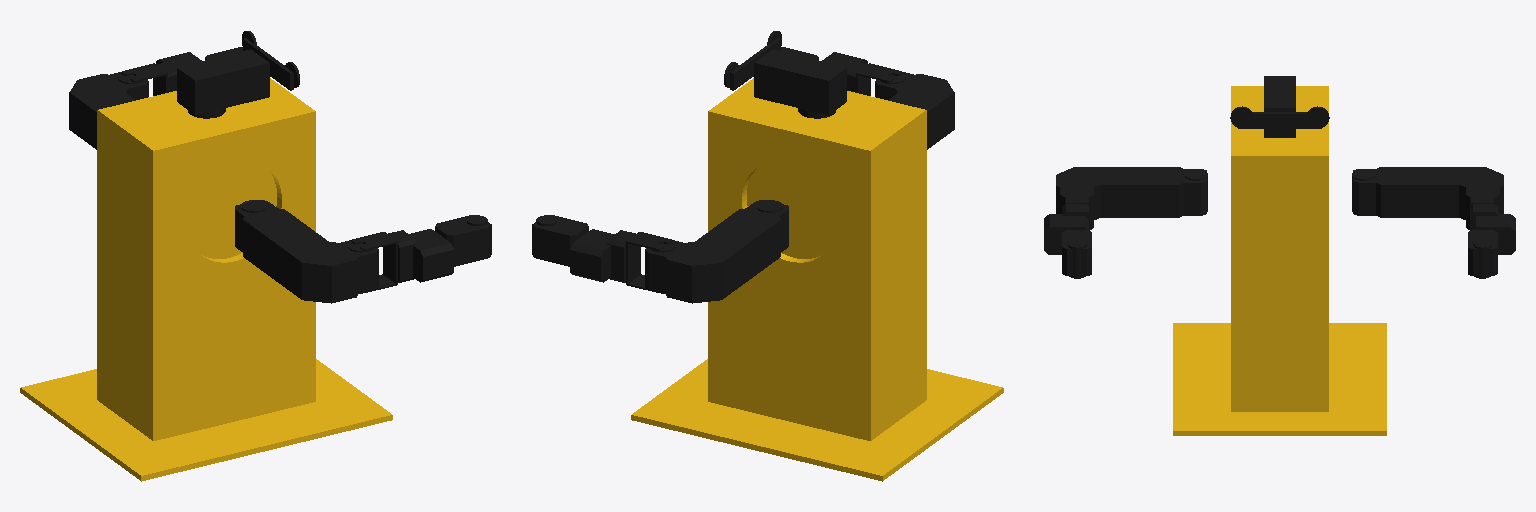
--- Render facts (derived) ---
3 views of the same robot in one strip: view 1: azimuth 30°, elevation 25°; view 2: azimuth 150°, elevation 25°; view 3: azimuth 270°, elevation 25° (orthographic).
Model boxbot with 27 links and 26 joints (14 revolute, 4 prismatic, 8 fixed), rooted at world, posed joints at zero except 4 at the middle of their limits (left_gripper_joint = 0.0165, left_gripper_prismatic_joint_2 = 0.0165, right_gripper_joint = 0.0165, right_gripper_prismatic_joint_2 = 0.0165).
Links seen in each view (by area): view 1: torso, right_biceps_link, pan_link, right_forearm_1_link, left_biceps_link, right_forearm_2_link, left_forearm_1_link, tilt_link; view 2: torso, left_biceps_link, pan_link, left_forearm_1_link, right_biceps_link, left_forearm_2_link, right_forearm_1_link, tilt_link; view 3: torso, left_biceps_link, right_biceps_link, left_forearm_1_link, right_forearm_1_link, pan_link, left_forearm_2_link, right_forearm_2_link, tilt_link.
Link boxes in pixels (bbox=[...]): torso: bbox=[20, 78, 392, 481]; right_biceps_link: bbox=[235, 200, 378, 303]; pan_link: bbox=[177, 49, 269, 114]; right_forearm_1_link: bbox=[351, 229, 453, 292]; left_biceps_link: bbox=[69, 72, 148, 149]; right_forearm_2_link: bbox=[435, 215, 491, 266]; left_forearm_1_link: bbox=[121, 52, 201, 95]; tilt_link: bbox=[243, 38, 293, 90]; torso: bbox=[631, 78, 1003, 481]; left_biceps_link: bbox=[645, 200, 788, 303]; pan_link: bbox=[754, 49, 846, 114]; left_forearm_1_link: bbox=[570, 229, 672, 292]; right_biceps_link: bbox=[875, 72, 954, 149]; left_forearm_2_link: bbox=[532, 215, 588, 266]; right_forearm_1_link: bbox=[822, 52, 902, 95]; tilt_link: bbox=[730, 38, 780, 90]; torso: bbox=[1173, 86, 1386, 435]; left_biceps_link: bbox=[1352, 167, 1503, 230]; right_biceps_link: bbox=[1056, 167, 1207, 230]; left_forearm_1_link: bbox=[1471, 188, 1515, 254]; right_forearm_1_link: bbox=[1044, 188, 1088, 254]; pan_link: bbox=[1264, 76, 1295, 137]; left_forearm_2_link: bbox=[1468, 230, 1497, 278]; right_forearm_2_link: bbox=[1062, 230, 1091, 278]; tilt_link: bbox=[1238, 112, 1321, 128].
Size in the robot's own frame: 0.3521 by 0.561 by 0.398 metres.
7 mesh visuals loaded from 9 distinct referenced files (4 binary STL); not drawn: 12 (reference not matched to a file when rendering).

The robot description file, URDF, robot "boxbot":
<?xml version="1.0" ?>
<!-- =================================================================================== -->
<!-- |    This document was autogenerated by xacro from boxbot_6dof.urdf.xacro         | -->
<!-- |    EDITING THIS FILE BY HAND IS NOT RECOMMENDED                                 | -->
<!-- =================================================================================== -->
<robot name="boxbot">
  <link name="world"/>
  <link name="torso">
    <visual>
      <origin rpy="1.5707963268 0 1.5707963268" xyz="0 0 0"/>
      <geometry>
        <mesh filename="package://boxbot_description/meshes/torso_link.stl"/>
      </geometry>
      <material name="">
        <color rgba="0.96 0.76 0.13 1.0"/>
      </material>
    </visual>
    <collision>
      <origin rpy="1.5707963268 0 1.5707963268" xyz="0 0 0"/>
      <geometry>
        <mesh filename="package://boxbot_description/meshes/torso_link.stl"/>
      </geometry>
    </collision>
    <inertial>
      <!--placeholders-->
      <origin rpy="0 0 0" xyz="0.0 0.0 0.0"/>
      <mass value="1"/>
      <inertia ixx="1.0" ixy="0.0" ixz="0.0" iyy="1.0" iyz="0.0" izz="1.0"/>
    </inertial>
  </link>
  <joint name="fixed" type="fixed">
    <origin rpy="0 0 0" xyz="0 0 0"/>
    <parent link="world"/>
    <child link="torso"/>
  </joint>
  <!-- links -->
  <link name="left_arm_base_link">
    <inertial>
      <origin rpy="0 0 0" xyz="0.0 0.0 -0.04"/>
      <mass value="0.001"/>
      <inertia ixx="0.001" ixy="0.0" ixz="0.0" iyy="0.001" iyz="0.0" izz="0.001"/>
    </inertial>
  </link>
  <link name="left_shoulder_link">
    <visual>
      <origin rpy="0 0 0" xyz="0 0 0"/>
      <geometry>
        <mesh filename="package://boxbot_description/meshes/shoulder_link.stl"/>
      </geometry>
      <material name="">
        <color rgba="0.15 0.15 0.15 1.0"/>
      </material>
    </visual>
    <collision>
      <origin rpy="0 0 0" xyz="0 0 0"/>
      <geometry>
        <mesh filename="package://boxbot_description/meshes/shoulder_link.stl"/>
      </geometry>
    </collision>
    <inertial>
      <origin rpy="0 0 0" xyz="0.0 0.0 -0.04"/>
      <mass value="0.061"/>
      <inertia ixx="0.001" ixy="0.0" ixz="0.0" iyy="0.001" iyz="0.0" izz="0.001"/>
    </inertial>
  </link>
  <link name="left_biceps_link">
    <visual>
      <origin rpy="0 0 0" xyz="0 0 0"/>
      <geometry>
        <mesh filename="package://boxbot_description/meshes/biceps_new_link.stl"/>
      </geometry>
      <material name="">
        <color rgba="0.15 0.15 0.15 1.0"/>
      </material>
    </visual>
    <collision>
      <origin rpy="0 0 0" xyz="0 0 0"/>
      <geometry>
        <mesh filename="package://boxbot_description/meshes/biceps_new_link.stl"/>
      </geometry>
    </collision>
    <inertial>
      <origin rpy="0 0 0" xyz="0.006670 0.0 0.083394"/>
      <mass value="3.62e-1"/>
      <inertia ixx="0.001" ixy="0.0" ixz="0.0" iyy="0.001" iyz="0.0" izz="0.001"/>
    </inertial>
  </link>
  <link name="left_forearm_1_link">
    <visual>
      <origin rpy="-1.570795 0 1.570795" xyz="0 0 0"/>
      <geometry>
        <mesh filename="package://boxbot_description/meshes/forearm_1_link.stl"/>
      </geometry>
      <material name="">
        <color rgba="0.15 0.15 0.15 1.0"/>
      </material>
    </visual>
    <collision>
      <origin rpy="-1.570795 0 1.570795" xyz="0 0 0"/>
      <geometry>
        <mesh filename="package://boxbot_description/meshes/forearm_1_link.stl"/>
      </geometry>
    </collision>
    <inertial>
      <origin rpy="0 0 0" xyz="0 0 0"/>
      <mass value="1.87e-1"/>
      <inertia ixx="0.001" ixy="0.0" ixz="0.0" iyy="0.001" iyz="0.0" izz="0.001"/>
    </inertial>
  </link>
  <link name="left_forearm_2_link">
    <visual>
      <origin rpy="0 1.570795 0" xyz="0 0 0"/>
      <geometry>
        <mesh filename="package://boxbot_description/meshes/forearm_2_link.stl"/>
      </geometry>
      <material name="">
        <color rgba="0.15 0.15 0.15 1.0"/>
      </material>
    </visual>
    <collision>
      <origin rpy="0 1.570795 0" xyz="0 0 0"/>
      <geometry>
        <mesh filename="package://boxbot_description/meshes/forearm_2_link.stl"/>
      </geometry>
    </collision>
    <inertial>
      <origin rpy="0 0 0" xyz="0.000018 0.0 0.090995"/>
      <mass value="1.87e-1"/>
      <inertia ixx="0.001" ixy="0.0" ixz="0.0" iyy="0.001" iyz="0.0" izz="0.001"/>
    </inertial>
  </link>
  <link name="left_wrist_1_link">
    <visual>
      <origin rpy="0 0 0" xyz="0 0 0"/>
      <geometry>
        <mesh filename="package://boxbot_description/meshes/wrist_1_link.stl"/>
      </geometry>
      <material name="">
        <color rgba="0.15 0.15 0.15 1.0"/>
      </material>
    </visual>
    <collision>
      <origin rpy="0 0 0" xyz="0 0 0"/>
      <geometry>
        <mesh filename="package://boxbot_description/meshes/wrist_1_link.stl"/>
      </geometry>
    </collision>
    <inertial>
      <origin rpy="0 0 0" xyz="-0.010852 0.0 0.048078"/>
      <mass value="9.1e-2"/>
      <inertia ixx="0.001" ixy="0.0" ixz="0.0" iyy="0.001" iyz="0.0" izz="0.001"/>
    </inertial>
  </link>
  <link name="left_wrist_2_link">
    <visual>
      <origin rpy="0 0 0" xyz="0 0 0"/>
      <geometry>
        <mesh filename="package://boxbot_description/meshes/wrist_2_link.new.stl"/>
      </geometry>
      <material name="">
        <color rgba="0.15 0.15 0.15 1.0"/>
      </material>
    </visual>
    <collision>
      <origin rpy="0 0 0" xyz="0 0 0"/>
      <geometry>
        <mesh filename="package://boxbot_description/meshes/wrist_2_link.new.stl"/>
      </geometry>
    </collision>
    <inertial>
      <origin rpy="0 0 0" xyz="-0.018000 0.0 0.01500 "/>
      <mass value="6.3e-2"/>
      <inertia ixx="0.001" ixy="0.0" ixz="0.0" iyy="0.001" iyz="0.0" izz="0.001"/>
    </inertial>
  </link>
  <!-- joints -->
  <joint name="left_arm_base_joint" type="fixed">
    <origin rpy="-1.570795 0 0" xyz="0 0.09961300000000001 0.24953"/>
    <parent link="torso"/>
    <child link="left_arm_base_link"/>
  </joint>
  <joint name="left_shoulder_1_joint" type="revolute">
    <origin rpy="0 0 0" xyz="0 0 0"/>
    <parent link="left_arm_base_link"/>
    <child link="left_shoulder_link"/>
    <axis xyz="0 0 1"/>
    <limit effort="6" lower="-2.617" upper="2.617" velocity="0.785"/>
  </joint>
  <joint name="left_shoulder_2_joint" type="revolute">
    <origin rpy="0 0 3.14159" xyz="0 0 0"/>
    <parent link="left_shoulder_link"/>
    <child link="left_biceps_link"/>
    <axis xyz="0 1 0"/>
    <limit effort="6" lower="-1.571" upper="1.571" velocity="1.571"/>
  </joint>
  <joint name="left_elbow_joint" type="revolute">
    <origin rpy="0 1.570795 3.14159" xyz="-0.04825 0 0.1418"/>
    <parent link="left_biceps_link"/>
    <child link="left_forearm_1_link"/>
    <axis xyz="0 -1 0"/>
    <limit effort="6" lower="-1.571" upper="1.571" velocity="1.571"/>
  </joint>
  <joint name="left_wrist_1_joint" type="revolute">
    <origin rpy="0 0 -1.570795" xyz="0 0 0.0928"/>
    <parent link="left_forearm_1_link"/>
    <child link="left_forearm_2_link"/>
    <axis xyz="0 0 1"/>
    <limit effort="2.5" lower="-2.617" upper="2.617" velocity="1.571"/>
  </joint>
  <joint name="left_wrist_2_joint" type="revolute">
    <origin rpy="0 0 1.570795" xyz="0 0 0.048"/>
    <parent link="left_forearm_2_link"/>
    <child link="left_wrist_1_link"/>
    <axis xyz="0 1 0"/>
    <limit effort="2.5" lower="-1.745" upper="1.745" velocity="1.571"/>
  </joint>
  <joint name="left_wrist_3_joint" type="revolute">
    <origin rpy="0 0 0" xyz="0 0 0.07150000000000001"/>
    <parent link="left_wrist_1_link"/>
    <child link="left_wrist_2_link"/>
    <axis xyz="0 0 1"/>
    <limit effort="1.5" lower="-2.617" upper="2.617" velocity="1.571"/>
  </joint>
  <link name="left_gripper_rail_link">
    <visual>
      <origin rpy="0 0 1.57" xyz="0 0 0"/>
      <geometry>
        <mesh filename="package://boxbot_description/meshes/gripper_rail_link.stl"/>
      </geometry>
      <material name="">
        <color rgba="0.15 0.15 0.15 1.0"/>
      </material>
    </visual>
    <!--Removed for now due to problems with collision in Gazebo-->
    <!--collision>
         <origin xyz="0 0 0" rpy="0 0 1.57" />
         <geometry>
            <mesh filename="package://boxbot_description/meshes/gripper_rail_link.stl"/>
         </geometry>
      </collision-->
    <inertial>
      <origin rpy="0 0 0" xyz="0 0 0"/>
      <mass value="7.0e-3"/>
      <inertia ixx="0.001" ixy="0.0" ixz="0.0" iyy="0.001" iyz="0.0" izz="0.001"/>
    </inertial>
  </link>
  <link name="left_gripper_1_link">
    <visual>
      <origin rpy="0 0 1.57" xyz="0 -0.0007 0"/>
      <geometry>
        <mesh filename="package://boxbot_description/meshes/gripper_hand_fixed_link.stl"/>
      </geometry>
      <material name="">
        <color rgba="0.15 0.15 0.15 1.0"/>
      </material>
    </visual>
    <collision>
      <origin rpy="0 0 1.57" xyz="0 -0.0007 0"/>
      <geometry>
        <mesh filename="package://boxbot_description/meshes/gripper_hand_fixed_link.stl"/>
      </geometry>
    </collision>
    <inertial>
      <origin rpy="0 0 0" xyz="0.0 -0.008292 0.017304"/>
      <mass value="8.0e-3"/>
      <inertia ixx="0.001" ixy="0.0" ixz="0.0" iyy="0.001" iyz="0.0" izz="0.001"/>
    </inertial>
  </link>
  <link name="left_gripper_2_link">
    <visual>
      <origin rpy="0 0 -1.57" xyz="0 0.0007 0"/>
      <geometry>
        <mesh filename="package://boxbot_description/meshes/gripper_hand_fixed_link.stl"/>
      </geometry>
      <material name="">
        <color rgba="0.15 0.15 0.15 1.0"/>
      </material>
    </visual>
    <collision>
      <origin rpy="0 0 -1.57" xyz="0 0.0007 0"/>
      <geometry>
        <mesh filename="package://boxbot_description/meshes/gripper_hand_fixed_link.stl"/>
      </geometry>
    </collision>
    <inertial>
      <origin rpy="0 0 0" xyz="0.0 0.008292 0.017304"/>
      <mass value="8.0e-3"/>
      <inertia ixx="0.001" ixy="0.0" ixz="0.0" iyy="0.001" iyz="0.0" izz="0.001"/>
    </inertial>
  </link>
  <joint name="left_rail_joint" type="fixed">
    <origin rpy="0 0 0" xyz="0 0 0.043000000000000003"/>
    <parent link="left_wrist_2_link"/>
    <child link="left_gripper_rail_link"/>
  </joint>
  <joint name="left_gripper_joint" type="prismatic">
    <origin rpy="0 0 0" xyz="0 0 0"/>
    <parent link="left_gripper_rail_link"/>
    <child link="left_gripper_1_link"/>
    <axis xyz="0 -1 0"/>
    <limit effort="6" lower="0.002" upper="0.031" velocity="0.5"/>
  </joint>
  <joint name="left_gripper_prismatic_joint_2" type="prismatic">
    <origin rpy="0 0 0" xyz="0 0 0"/>
    <parent link="left_gripper_rail_link"/>
    <child link="left_gripper_2_link"/>
    <mimic joint="left_gripper_joint"/>
    <axis xyz="0 1 0"/>
    <limit effort="6" lower="0.002" upper="0.031" velocity="0.5"/>
  </joint>
  <!-- links -->
  <link name="right_arm_base_link">
    <inertial>
      <origin rpy="0 0 0" xyz="0.0 0.0 -0.04"/>
      <mass value="0.001"/>
      <inertia ixx="0.001" ixy="0.0" ixz="0.0" iyy="0.001" iyz="0.0" izz="0.001"/>
    </inertial>
  </link>
  <link name="right_shoulder_link">
    <visual>
      <origin rpy="0 0 0" xyz="0 0 0"/>
      <geometry>
        <mesh filename="package://boxbot_description/meshes/shoulder_link.stl"/>
      </geometry>
      <material name="">
        <color rgba="0.15 0.15 0.15 1.0"/>
      </material>
    </visual>
    <collision>
      <origin rpy="0 0 0" xyz="0 0 0"/>
      <geometry>
        <mesh filename="package://boxbot_description/meshes/shoulder_link.stl"/>
      </geometry>
    </collision>
    <inertial>
      <origin rpy="0 0 0" xyz="0.0 0.0 -0.04"/>
      <mass value="0.061"/>
      <inertia ixx="0.001" ixy="0.0" ixz="0.0" iyy="0.001" iyz="0.0" izz="0.001"/>
    </inertial>
  </link>
  <link name="right_biceps_link">
    <visual>
      <origin rpy="0 0 0" xyz="0 0 0"/>
      <geometry>
        <mesh filename="package://boxbot_description/meshes/biceps_new_link.stl"/>
      </geometry>
      <material name="">
        <color rgba="0.15 0.15 0.15 1.0"/>
      </material>
    </visual>
    <collision>
      <origin rpy="0 0 0" xyz="0 0 0"/>
      <geometry>
        <mesh filename="package://boxbot_description/meshes/biceps_new_link.stl"/>
      </geometry>
    </collision>
    <inertial>
      <origin rpy="0 0 0" xyz="0.006670 0.0 0.083394"/>
      <mass value="3.62e-1"/>
      <inertia ixx="0.001" ixy="0.0" ixz="0.0" iyy="0.001" iyz="0.0" izz="0.001"/>
    </inertial>
  </link>
  <link name="right_forearm_1_link">
    <visual>
      <origin rpy="-1.570795 0 1.570795" xyz="0 0 0"/>
      <geometry>
        <mesh filename="package://boxbot_description/meshes/forearm_1_link.stl"/>
      </geometry>
      <material name="">
        <color rgba="0.15 0.15 0.15 1.0"/>
      </material>
    </visual>
    <collision>
      <origin rpy="-1.570795 0 1.570795" xyz="0 0 0"/>
      <geometry>
        <mesh filename="package://boxbot_description/meshes/forearm_1_link.stl"/>
      </geometry>
    </collision>
    <inertial>
      <origin rpy="0 0 0" xyz="0 0 0"/>
      <mass value="1.87e-1"/>
      <inertia ixx="0.001" ixy="0.0" ixz="0.0" iyy="0.001" iyz="0.0" izz="0.001"/>
    </inertial>
  </link>
  <link name="right_forearm_2_link">
    <visual>
      <origin rpy="0 1.570795 0" xyz="0 0 0"/>
      <geometry>
        <mesh filename="package://boxbot_description/meshes/forearm_2_link.stl"/>
      </geometry>
      <material name="">
        <color rgba="0.15 0.15 0.15 1.0"/>
      </material>
    </visual>
    <collision>
      <origin rpy="0 1.570795 0" xyz="0 0 0"/>
      <geometry>
        <mesh filename="package://boxbot_description/meshes/forearm_2_link.stl"/>
      </geometry>
    </collision>
    <inertial>
      <origin rpy="0 0 0" xyz="0.000018 0.0 0.090995"/>
      <mass value="1.87e-1"/>
      <inertia ixx="0.001" ixy="0.0" ixz="0.0" iyy="0.001" iyz="0.0" izz="0.001"/>
    </inertial>
  </link>
  <link name="right_wrist_1_link">
    <visual>
      <origin rpy="0 0 0" xyz="0 0 0"/>
      <geometry>
        <mesh filename="package://boxbot_description/meshes/wrist_1_link.stl"/>
      </geometry>
      <material name="">
        <color rgba="0.15 0.15 0.15 1.0"/>
      </material>
    </visual>
    <collision>
      <origin rpy="0 0 0" xyz="0 0 0"/>
      <geometry>
        <mesh filename="package://boxbot_description/meshes/wrist_1_link.stl"/>
      </geometry>
    </collision>
    <inertial>
      <origin rpy="0 0 0" xyz="-0.010852 0.0 0.048078"/>
      <mass value="9.1e-2"/>
      <inertia ixx="0.001" ixy="0.0" ixz="0.0" iyy="0.001" iyz="0.0" izz="0.001"/>
    </inertial>
  </link>
  <link name="right_wrist_2_link">
    <visual>
      <origin rpy="0 0 0" xyz="0 0 0"/>
      <geometry>
        <mesh filename="package://boxbot_description/meshes/wrist_2_link.new.stl"/>
      </geometry>
      <material name="">
        <color rgba="0.15 0.15 0.15 1.0"/>
      </material>
    </visual>
    <collision>
      <origin rpy="0 0 0" xyz="0 0 0"/>
      <geometry>
        <mesh filename="package://boxbot_description/meshes/wrist_2_link.new.stl"/>
      </geometry>
    </collision>
    <inertial>
      <origin rpy="0 0 0" xyz="-0.018000 0.0 0.01500 "/>
      <mass value="6.3e-2"/>
      <inertia ixx="0.001" ixy="0.0" ixz="0.0" iyy="0.001" iyz="0.0" izz="0.001"/>
    </inertial>
  </link>
  <!-- joints -->
  <joint name="right_arm_base_joint" type="fixed">
    <origin rpy="1.570795 0 0" xyz="0 -0.09961300000000001 0.24953"/>
    <parent link="torso"/>
    <child link="right_arm_base_link"/>
  </joint>
  <joint name="right_shoulder_1_joint" type="revolute">
    <origin rpy="0 0 0" xyz="0 0 0"/>
    <parent link="right_arm_base_link"/>
    <child link="right_shoulder_link"/>
    <axis xyz="0 0 1"/>
    <limit effort="6" lower="-2.617" upper="2.617" velocity="0.785"/>
  </joint>
  <joint name="right_shoulder_2_joint" type="revolute">
    <origin rpy="0 0 3.14159" xyz="0 0 0"/>
    <parent link="right_shoulder_link"/>
    <child link="right_biceps_link"/>
    <axis xyz="0 1 0"/>
    <limit effort="6" lower="-1.571" upper="1.571" velocity="1.571"/>
  </joint>
  <joint name="right_elbow_joint" type="revolute">
    <origin rpy="0 1.570795 3.14159" xyz="-0.04825 0 0.1418"/>
    <parent link="right_biceps_link"/>
    <child link="right_forearm_1_link"/>
    <axis xyz="0 -1 0"/>
    <limit effort="6" lower="-1.571" upper="1.571" velocity="1.571"/>
  </joint>
  <joint name="right_wrist_1_joint" type="revolute">
    <origin rpy="0 0 -1.570795" xyz="0 0 0.0928"/>
    <parent link="right_forearm_1_link"/>
    <child link="right_forearm_2_link"/>
    <axis xyz="0 0 1"/>
    <limit effort="2.5" lower="-2.617" upper="2.617" velocity="1.571"/>
  </joint>
  <joint name="right_wrist_2_joint" type="revolute">
    <origin rpy="0 0 1.570795" xyz="0 0 0.048"/>
    <parent link="right_forearm_2_link"/>
    <child link="right_wrist_1_link"/>
    <axis xyz="0 1 0"/>
    <limit effort="2.5" lower="-1.745" upper="1.745" velocity="1.571"/>
  </joint>
  <joint name="right_wrist_3_joint" type="revolute">
    <origin rpy="0 0 0" xyz="0 0 0.07150000000000001"/>
    <parent link="right_wrist_1_link"/>
    <child link="right_wrist_2_link"/>
    <axis xyz="0 0 1"/>
    <limit effort="1.5" lower="-2.617" upper="2.617" velocity="1.571"/>
  </joint>
  <link name="right_gripper_rail_link">
    <visual>
      <origin rpy="0 0 1.57" xyz="0 0 0"/>
      <geometry>
        <mesh filename="package://boxbot_description/meshes/gripper_rail_link.stl"/>
      </geometry>
      <material name="">
        <color rgba="0.15 0.15 0.15 1.0"/>
      </material>
    </visual>
    <!--Removed for now due to problems with collision in Gazebo-->
    <!--collision>
         <origin xyz="0 0 0" rpy="0 0 1.57" />
         <geometry>
            <mesh filename="package://boxbot_description/meshes/gripper_rail_link.stl"/>
         </geometry>
      </collision-->
    <inertial>
      <origin rpy="0 0 0" xyz="0 0 0"/>
      <mass value="7.0e-3"/>
      <inertia ixx="0.001" ixy="0.0" ixz="0.0" iyy="0.001" iyz="0.0" izz="0.001"/>
    </inertial>
  </link>
  <link name="right_gripper_1_link">
    <visual>
      <origin rpy="0 0 1.57" xyz="0 -0.0007 0"/>
      <geometry>
        <mesh filename="package://boxbot_description/meshes/gripper_hand_fixed_link.stl"/>
      </geometry>
      <material name="">
        <color rgba="0.15 0.15 0.15 1.0"/>
      </material>
    </visual>
    <collision>
      <origin rpy="0 0 1.57" xyz="0 -0.0007 0"/>
      <geometry>
        <mesh filename="package://boxbot_description/meshes/gripper_hand_fixed_link.stl"/>
      </geometry>
    </collision>
    <inertial>
      <origin rpy="0 0 0" xyz="0.0 -0.008292 0.017304"/>
      <mass value="8.0e-3"/>
      <inertia ixx="0.001" ixy="0.0" ixz="0.0" iyy="0.001" iyz="0.0" izz="0.001"/>
    </inertial>
  </link>
  <link name="right_gripper_2_link">
    <visual>
      <origin rpy="0 0 -1.57" xyz="0 0.0007 0"/>
      <geometry>
        <mesh filename="package://boxbot_description/meshes/gripper_hand_fixed_link.stl"/>
      </geometry>
      <material name="">
        <color rgba="0.15 0.15 0.15 1.0"/>
      </material>
    </visual>
    <collision>
      <origin rpy="0 0 -1.57" xyz="0 0.0007 0"/>
      <geometry>
        <mesh filename="package://boxbot_description/meshes/gripper_hand_fixed_link.stl"/>
      </geometry>
    </collision>
    <inertial>
      <origin rpy="0 0 0" xyz="0.0 0.008292 0.017304"/>
      <mass value="8.0e-3"/>
      <inertia ixx="0.001" ixy="0.0" ixz="0.0" iyy="0.001" iyz="0.0" izz="0.001"/>
    </inertial>
  </link>
  <joint name="right_rail_joint" type="fixed">
    <origin rpy="0 0 0" xyz="0 0 0.043000000000000003"/>
    <parent link="right_wrist_2_link"/>
    <child link="right_gripper_rail_link"/>
  </joint>
  <joint name="right_gripper_joint" type="prismatic">
    <origin rpy="0 0 0" xyz="0 0 0"/>
    <parent link="right_gripper_rail_link"/>
    <child link="right_gripper_1_link"/>
    <axis xyz="0 -1 0"/>
    <limit effort="6" lower="0.002" upper="0.031" velocity="0.5"/>
  </joint>
  <joint name="right_gripper_prismatic_joint_2" type="prismatic">
    <origin rpy="0 0 0" xyz="0 0 0"/>
    <parent link="right_gripper_rail_link"/>
    <child link="right_gripper_2_link"/>
    <mimic joint="right_gripper_joint"/>
    <axis xyz="0 1 0"/>
    <limit effort="6" lower="0.002" upper="0.031" velocity="0.5"/>
  </joint>
  <!-- links -->
  <link name="neck_base_link">
    <visual>
      <origin rpy="0 0 1.5707963267948966" xyz="0 0 0"/>
      <geometry>
        <cylinder length="0.02" radius="0.02"/>
      </geometry>
      <material name="">
        <color rgba="0.15 0.15 0.15 1.0"/>
      </material>
    </visual>
    <collision>
      <origin rpy="0 0 1.5707963267948966" xyz="0 0 0"/>
      <geometry>
        <cylinder length="0.02" radius="0.02"/>
      </geometry>
    </collision>
    <inertial>
      <origin rpy="0 0 0" xyz="0.0 0.0 0.0"/>
      <mass value="0.001"/>
      <inertia ixx="0.001" ixy="0.0" ixz="0.0" iyy="0.001" iyz="0.0" izz="0.001"/>
    </inertial>
  </link>
  <link name="pan_link">
    <visual>
      <origin rpy="0 0 1.5707963267948966" xyz="0.02 0 0.017"/>
      <geometry>
        <box size="0.039 0.09 0.04"/>
      </geometry>
      <material name="">
        <color rgba="0.15 0.15 0.15 1.0"/>
      </material>
    </visual>
    <collision>
      <origin rpy="0 0 1.5707963267948966" xyz="0 0 -0.0022"/>
      <geometry>
        <box size="0.039 0.09 0.04"/>
      </geometry>
    </collision>
    <inertial>
      <origin rpy="0 0 0" xyz="0.0 0.0 0.0"/>
      <mass value="0.001"/>
      <inertia ixx="0.001" ixy="0.0" ixz="0.0" iyy="0.001" iyz="0.0" izz="0.001"/>
    </inertial>
  </link>
  <link name="tilt_link">
    <visual>
      <origin rpy="0 -1.5707963267948966 0" xyz="0.02 0 0"/>
      <geometry>
        <box size="0.02 0.1 0.005"/>
      </geometry>
      <material name="">
        <color rgba="0.15 0.15 0.15 1.0"/>
      </material>
    </visual>
    <collision>
      <origin rpy="0 0 0" xyz="0 0 0"/>
      <geometry>
        <box size="0.02 0.1 0.005"/>
      </geometry>
    </collision>
    <inertial>
      <origin rpy="0 0 0" xyz="0.0 0.0 0.0"/>
      <mass value="0.001"/>
      <inertia ixx="0.001" ixy="0.0" ixz="0.0" iyy="0.001" iyz="0.0" izz="0.001"/>
    </inertial>
  </link>
  <link name="left_camera_link">
    <visual>
      <origin rpy="0 0 0" xyz="0 0 0"/>
      <geometry>
        <cylinder length="0.003" radius="0.014"/>
      </geometry>
      <material name="">
        <color rgba="0.15 0.15 0.15 1.0"/>
      </material>
    </visual>
    <collision>
      <origin rpy="0 0 0" xyz="0 0 0"/>
      <geometry>
        <cylinder length="0.003" radius="0.014"/>
      </geometry>
    </collision>
    <inertial>
      <origin rpy="0 0 0" xyz="0.0 0.0 0.0"/>
      <mass value="0.001"/>
      <inertia ixx="0.001" ixy="0.0" ixz="0.0" iyy="0.001" iyz="0.0" izz="0.001"/>
    </inertial>
  </link>
  <link name="right_camera_link">
    <visual>
      <origin rpy="0 0 0" xyz="0 0 0"/>
      <geometry>
        <cylinder length="0.003" radius="0.014"/>
      </geometry>
      <material name="">
        <color rgba="0.15 0.15 0.15 1.0"/>
      </material>
    </visual>
    <collision>
      <origin rpy="0 0 0" xyz="0 0 0"/>
      <geometry>
        <cylinder length="0.003" radius="0.014"/>
      </geometry>
    </collision>
    <inertial>
      <origin rpy="0 0 0" xyz="0.0 0.0 0.0"/>
      <mass value="0.001"/>
      <inertia ixx="0.001" ixy="0.0" ixz="0.0" iyy="0.001" iyz="0.0" izz="0.001"/>
    </inertial>
  </link>
  <!-- joints -->
  <joint name="neck_base_joint" type="fixed">
    <origin rpy="0 0 0" xyz="0 0 0.342"/>
    <parent link="torso"/>
    <child link="neck_base_link"/>
  </joint>
  <joint name="pan_joint" type="revolute">
    <axis xyz="0 0 1"/>
    <limit effort="3" lower="-3.14" upper="3.14" velocity="3.141592653589793"/>
    <origin rpy="0 0 0" xyz="0 0 0.012"/>
    <parent link="neck_base_link"/>
    <child link="pan_link"/>
  </joint>
  <joint name="tilt_joint" type="revolute">
    <axis xyz="0 1 0"/>
    <limit effort="3" lower="-1.5707963267948966" upper="0.50" velocity="3.141592653589793"/>
    <origin rpy="0 0 0" xyz="0.055 0 0.025"/>
    <parent link="pan_link"/>
    <child link="tilt_link"/>
  </joint>
  <joint name="left_camera_joint" type="fixed">
    <origin rpy="0 -1.5707963267948966 0" xyz="0.023 0.045 0.005"/>
    <parent link="tilt_link"/>
    <child link="left_camera_link"/>
  </joint>
  <joint name="right_camera_joint" type="fixed">
    <origin rpy="0 -1.5707963267948966 0" xyz="0.023 -0.045 0.005"/>
    <parent link="tilt_link"/>
    <child link="right_camera_link"/>
  </joint>
  <!-- Head mounted cameras -->
  <gazebo reference="left_camera_link">
    <sensor name="left_camera" type="camera">
      <update_rate>30.0</update_rate>
      <camera name="leftcamera">
        <pose>0 0 0 0 1.57 0</pose>
        <horizontal_fov>1.3962634</horizontal_fov>
        <image>
          <width>800</width>
          <height>800</height>
          <format>R8G8B8</format>
        </image>
        <clip>
          <near>0.02</near>
          <far>300</far>
        </clip>
        <noise>
          <type>gaussian</type>
          <mean>0.0</mean>
          <stddev>0.007</stddev>
        </noise>
      </camera>
      <plugin filename="libgazebo_ros_camera.so" name="camera_controller">
        <alwaysOn>true</alwaysOn>
        <updateRate>0.0</updateRate>
        <cameraName>boxbot/cameraLeft</cameraName>
        <imageTopicName>image_raw</imageTopicName>
        <cameraInfoTopicName>camera_info</cameraInfoTopicName>
        <frameName>left_camera_link</frameName>
        <hackBaseline>0.07</hackBaseline>
        <distortionK1>0.0</distortionK1>
        <distortionK2>0.0</distortionK2>
        <distortionK3>0.0</distortionK3>
        <distortionT1>0.0</distortionT1>
        <distortionT2>0.0</distortionT2>
      </plugin>
    </sensor>
  </gazebo>
  <gazebo reference="right_camera_link">
    <sensor name="right_camera" type="camera">
      <update_rate>30.0</update_rate>
      <camera name="rightcamera">
        <pose>0 0 0 0 1.57 0</pose>
        <horizontal_fov>1.3962634</horizontal_fov>
        <image>
          <width>800</width>
          <height>800</height>
          <format>R8G8B8</format>
        </image>
        <clip>
          <near>0.02</near>
          <far>300</far>
        </clip>
        <noise>
          <type>gaussian</type>
          <mean>0.0</mean>
          <stddev>0.007</stddev>
        </noise>
      </camera>
      <plugin filename="libgazebo_ros_camera.so" name="camera_controller">
        <alwaysOn>true</alwaysOn>
        <updateRate>0.0</updateRate>
        <cameraName>boxbot/cameraRight</cameraName>
        <imageTopicName>image_raw</imageTopicName>
        <cameraInfoTopicName>camera_info</cameraInfoTopicName>
        <frameName>right_camera_link</frameName>
        <hackBaseline>0.07</hackBaseline>
        <distortionK1>0.0</distortionK1>
        <distortionK2>0.0</distortionK2>
        <distortionK3>0.0</distortionK3>
        <distortionT1>0.0</distortionT1>
        <distortionT2>0.0</distortionT2>
      </plugin>
    </sensor>
  </gazebo>
  <!--gazebo ros control-->
  <gazebo>
    <plugin filename="libgazebo_ros_control.so" name="gazebo_ros_control">
      <robotNamespace>/boxbot</robotNamespace>
    </plugin>
  </gazebo>
  <!--transmissions-->
  <!--left-->
  <transmission name="ltran1">
    <type>transmission_interface/SimpleTransmission</type>
    <joint name="left_shoulder_1_joint">
      <hardwareInterface>hardware_interface/PositionJointInterface</hardwareInterface>
    </joint>
    <actuator name="left_motor1">
      <hardwareInterface>hardware_interface/PositionJointInterface</hardwareInterface>
      <mechanicalReduction>1</mechanicalReduction>
    </actuator>
  </transmission>
  <transmission name="ltran2">
    <type>transmission_interface/SimpleTransmission</type>
    <joint name="left_shoulder_2_joint">
      <hardwareInterface>hardware_interface/PositionJointInterface</hardwareInterface>
    </joint>
    <actuator name="left_motor2">
      <hardwareInterface>hardware_interface/PositionJointInterface</hardwareInterface>
      <mechanicalReduction>1</mechanicalReduction>
    </actuator>
  </transmission>
  <transmission name="ltran3">
    <type>transmission_interface/SimpleTransmission</type>
    <joint name="left_elbow_joint">
      <hardwareInterface>hardware_interface/PositionJointInterface</hardwareInterface>
    </joint>
    <actuator name="left_motor3">
      <hardwareInterface>hardware_interface/PositionJointInterface</hardwareInterface>
      <mechanicalReduction>1</mechanicalReduction>
    </actuator>
  </transmission>
  <transmission name="ltran4">
    <type>transmission_interface/SimpleTransmission</type>
    <joint name="left_wrist_1_joint">
      <hardwareInterface>hardware_interface/PositionJointInterface</hardwareInterface>
    </joint>
    <actuator name="left_motor4">
      <hardwareInterface>hardware_interface/PositionJointInterface</hardwareInterface>
      <mechanicalReduction>1</mechanicalReduction>
    </actuator>
  </transmission>
  <transmission name="ltran5">
    <type>transmission_interface/SimpleTransmission</type>
    <joint name="left_wrist_2_joint">
      <hardwareInterface>hardware_interface/PositionJointInterface</hardwareInterface>
    </joint>
    <actuator name="left_motor5">
      <hardwareInterface>hardware_interface/PositionJointInterface</hardwareInterface>
      <mechanicalReduction>1</mechanicalReduction>
    </actuator>
  </transmission>
  <transmission name="ltran6">
    <type>transmission_interface/SimpleTransmission</type>
    <joint name="left_wrist_3_joint">
      <hardwareInterface>hardware_interface/PositionJointInterface</hardwareInterface>
    </joint>
    <actuator name="left_motor6">
      <hardwareInterface>hardware_interface/PositionJointInterface</hardwareInterface>
      <mechanicalReduction>1</mechanicalReduction>
    </actuator>
  </transmission>
  <transmission name="ltrang">
    <type>transmission_interface/SimpleTransmission</type>
    <joint name="left_gripper_joint">
      <hardwareInterface>hardware_interface/PositionJointInterface</hardwareInterface>
    </joint>
    <actuator name="left_motorg">
      <hardwareInterface>hardware_interface/PositionJointInterface</hardwareInterface>
      <mechanicalReduction>1</mechanicalReduction>
    </actuator>
  </transmission>
  <transmission name="ltrang2">
    <type>transmission_interface/SimpleTransmission</type>
    <joint name="left_gripper_prismatic_joint_2">
      <hardwareInterface>hardware_interface/PositionJointInterface</hardwareInterface>
    </joint>
    <actuator name="left_motorg2">
      <hardwareInterface>hardware_interface/PositionJointInterface</hardwareInterface>
      <mechanicalReduction>1</mechanicalReduction>
    </actuator>
  </transmission>
  <!--right-->
  <transmission name="rtran1">
    <type>transmission_interface/SimpleTransmission</type>
    <joint name="right_shoulder_1_joint">
      <hardwareInterface>hardware_interface/PositionJointInterface</hardwareInterface>
    </joint>
    <actuator name="right_motor1">
      <hardwareInterface>hardware_interface/PositionJointInterface</hardwareInterface>
      <mechanicalReduction>1</mechanicalReduction>
    </actuator>
  </transmission>
  <transmission name="rtran2">
    <type>transmission_interface/SimpleTransmission</type>
    <joint name="right_shoulder_2_joint">
      <hardwareInterface>hardware_interface/PositionJointInterface</hardwareInterface>
    </joint>
    <actuator name="right_motor2">
      <hardwareInterface>hardware_interface/PositionJointInterface</hardwareInterface>
      <mechanicalReduction>1</mechanicalReduction>
    </actuator>
  </transmission>
  <transmission name="rtran3">
    <type>transmission_interface/SimpleTransmission</type>
    <joint name="right_elbow_joint">
      <hardwareInterface>hardware_interface/PositionJointInterface</hardwareInterface>
    </joint>
    <actuator name="right_motor3">
      <hardwareInterface>hardware_interface/PositionJointInterface</hardwareInterface>
      <mechanicalReduction>1</mechanicalReduction>
    </actuator>
  </transmission>
  <transmission name="rtran4">
    <type>transmission_interface/SimpleTransmission</type>
    <joint name="right_wrist_1_joint">
      <hardwareInterface>hardware_interface/PositionJointInterface</hardwareInterface>
    </joint>
    <actuator name="right_motor4">
      <hardwareInterface>hardware_interface/PositionJointInterface</hardwareInterface>
      <mechanicalReduction>1</mechanicalReduction>
    </actuator>
  </transmission>
  <transmission name="rtran5">
    <type>transmission_interface/SimpleTransmission</type>
    <joint name="right_wrist_2_joint">
      <hardwareInterface>hardware_interface/PositionJointInterface</hardwareInterface>
    </joint>
    <actuator name="right_motor5">
      <hardwareInterface>hardware_interface/PositionJointInterface</hardwareInterface>
      <mechanicalReduction>1</mechanicalReduction>
    </actuator>
  </transmission>
  <transmission name="rtran6">
    <type>transmission_interface/SimpleTransmission</type>
    <joint name="right_wrist_3_joint">
      <hardwareInterface>hardware_interface/PositionJointInterface</hardwareInterface>
    </joint>
    <actuator name="right_motor6">
      <hardwareInterface>hardware_interface/PositionJointInterface</hardwareInterface>
      <mechanicalReduction>1</mechanicalReduction>
    </actuator>
  </transmission>
  <transmission name="rtrang">
    <type>transmission_interface/SimpleTransmission</type>
    <joint name="right_gripper_joint">
      <hardwareInterface>hardware_interface/PositionJointInterface</hardwareInterface>
    </joint>
    <actuator name="right_motorg">
      <hardwareInterface>hardware_interface/PositionJointInterface</hardwareInterface>
      <mechanicalReduction>1</mechanicalReduction>
    </actuator>
  </transmission>
  <transmission name="rtrang2">
    <type>transmission_interface/SimpleTransmission</type>
    <joint name="right_gripper_prismatic_joint_2">
      <hardwareInterface>hardware_interface/PositionJointInterface</hardwareInterface>
    </joint>
    <actuator name="right_motorg2">
      <hardwareInterface>hardware_interface/PositionJointInterface</hardwareInterface>
      <mechanicalReduction>1</mechanicalReduction>
    </actuator>
  </transmission>
  <!-- head -->
  <transmission name="htran1">
    <type>transmission_interface/SimpleTransmission</type>
    <joint name="pan_joint">
      <hardwareInterface>hardware_interface/PositionJointInterface</hardwareInterface>
    </joint>
    <actuator name="head_motor1">
      <hardwareInterface>hardware_interface/PositionJointInterface</hardwareInterface>
      <mechanicalReduction>1</mechanicalReduction>
    </actuator>
  </transmission>
  <transmission name="htran2">
    <type>transmission_interface/SimpleTransmission</type>
    <joint name="tilt_joint">
      <hardwareInterface>hardware_interface/PositionJointInterface</hardwareInterface>
    </joint>
    <actuator name="head_motor2">
      <hardwareInterface>hardware_interface/PositionJointInterface</hardwareInterface>
      <mechanicalReduction>1</mechanicalReduction>
    </actuator>
  </transmission>
  <!--Gazebo compatable colors-->
  <gazebo reference="torso">
    <mu1>0.3</mu1>
    <mu2>0.3</mu2>
    <material>Gazebo/Wood</material>
  </gazebo>
  <!--left arm-->
  <gazebo reference="left_shoulder_link">
    <mu1>0.6</mu1>
    <mu2>0.6</mu2>
    <material>Gazebo/DarkGrey</material>
  </gazebo>
  <gazebo reference="left_biceps_link">
    <mu1>0.6</mu1>
    <mu2>0.6</mu2>
    <material>Gazebo/DarkGrey</material>
  </gazebo>
  <gazebo reference="left_forearm_1_link">
    <mu1>0.6</mu1>
    <mu2>0.6</mu2>
    <material>Gazebo/DarkGrey</material>
  </gazebo>
  <gazebo reference="left_forearm_2_link">
    <mu1>0.6</mu1>
    <mu2>0.6</mu2>
    <material>Gazebo/DarkGrey</material>
  </gazebo>
  <gazebo reference="left_wrist_1_link">
    <mu1>0.6</mu1>
    <mu2>0.6</mu2>
    <material>Gazebo/DarkGrey</material>
  </gazebo>
  <gazebo reference="left_wrist_2_link">
    <mu1>0.6</mu1>
    <mu2>0.6</mu2>
    <material>Gazebo/DarkGrey</material>
  </gazebo>
  <gazebo reference="left_gripper_rail_link">
    <mu1>0.6</mu1>
    <mu2>0.6</mu2>
    <material>Gazebo/DarkGrey</material>
  </gazebo>
  <gazebo reference="left_gripper_1_link">
    <mu1>1.0</mu1>
    <mu2>1.0</mu2>
    <material>Gazebo/DarkGrey</material>
  </gazebo>
  <gazebo reference="left_gripper_2_link">
    <mu1>1.0</mu1>
    <mu2>1.0</mu2>
    <material>Gazebo/DarkGrey</material>
  </gazebo>
  <!--right arm-->
  <gazebo reference="right_shoulder_link">
    <mu1>0.6</mu1>
    <mu2>0.6</mu2>
    <material>Gazebo/DarkGrey</material>
  </gazebo>
  <gazebo reference="right_biceps_link">
    <mu1>0.6</mu1>
    <mu2>0.6</mu2>
    <material>Gazebo/DarkGrey</material>
  </gazebo>
  <gazebo reference="right_forearm_1_link">
    <mu1>0.6</mu1>
    <mu2>0.6</mu2>
    <material>Gazebo/DarkGrey</material>
  </gazebo>
  <gazebo reference="right_forearm_2_link">
    <mu1>0.6</mu1>
    <mu2>0.6</mu2>
    <material>Gazebo/DarkGrey</material>
  </gazebo>
  <gazebo reference="right_wrist_1_link">
    <mu1>0.6</mu1>
    <mu2>0.6</mu2>
    <material>Gazebo/DarkGrey</material>
  </gazebo>
  <gazebo reference="right_wrist_2_link">
    <mu1>0.6</mu1>
    <mu2>0.6</mu2>
    <material>Gazebo/DarkGrey</material>
  </gazebo>
  <gazebo reference="right_gripper_rail_link">
    <mu1>0.6</mu1>
    <mu2>0.6</mu2>
    <material>Gazebo/DarkGrey</material>
  </gazebo>
  <gazebo reference="right_gripper_1_link">
    <mu1>1.0</mu1>
    <mu2>1.0</mu2>
    <material>Gazebo/DarkGrey</material>
  </gazebo>
  <gazebo reference="right_gripper_2_link">
    <mu1>1.0</mu1>
    <mu2>1.0</mu2>
    <material>Gazebo/DarkGrey</material>
  </gazebo>
  <gazebo reference="neck_base_link">
    <mu1>0.6</mu1>
    <mu2>0.6</mu2>
    <material>Gazebo/DarkGrey</material>
  </gazebo>
  <gazebo reference="pan_link">
    <mu1>0.6</mu1>
    <mu2>0.6</mu2>
    <material>Gazebo/DarkGrey</material>
  </gazebo>
  <gazebo reference="tilt_link">
    <mu1>0.6</mu1>
    <mu2>0.6</mu2>
    <material>Gazebo/DarkGrey</material>
  </gazebo>
  <gazebo reference="left_camera_link">
    <mu1>0.6</mu1>
    <mu2>0.6</mu2>
    <material>Gazebo/DarkGrey</material>
  </gazebo>
  <gazebo reference="right_camera_link">
    <mu1>0.6</mu1>
    <mu2>0.6</mu2>
    <material>Gazebo/DarkGrey</material>
  </gazebo>
</robot>
